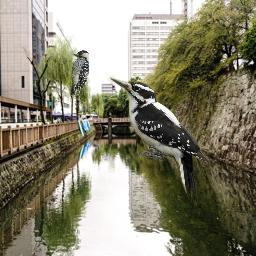Woodpecker: (109, 74, 210, 206), (71, 50, 89, 96)
